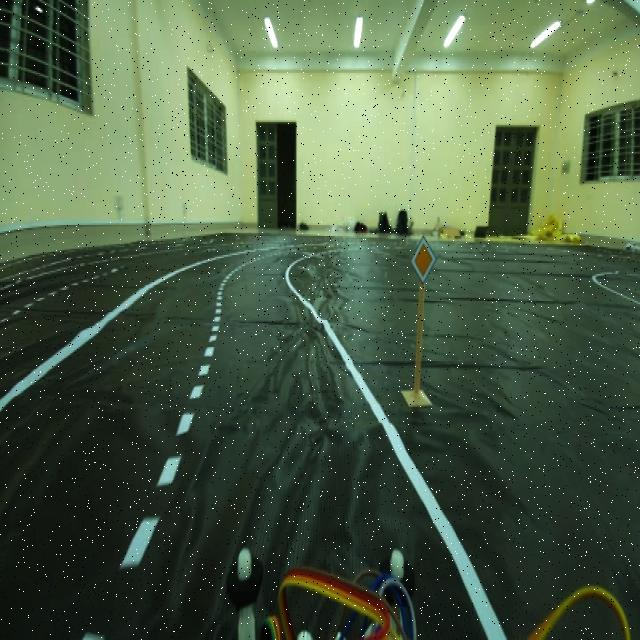priority: (407, 230, 437, 288)
